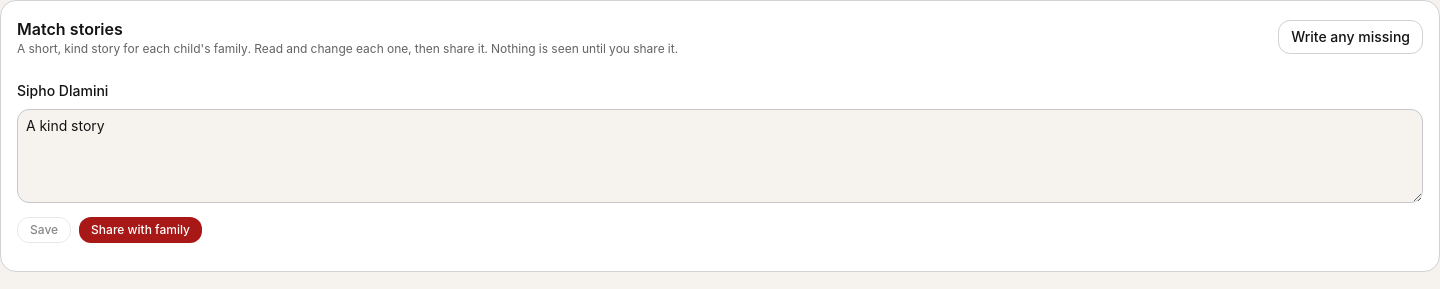
Test: MatchStoriesPanel › saves edits before sharing, then marks it shared
The width and height of the screenshot is (1440, 289).
Step 1. Replace the text in the text box named "Story for Sipho Dlamini" with "Edited story" → (720, 156), box [17, 109, 1423, 203]
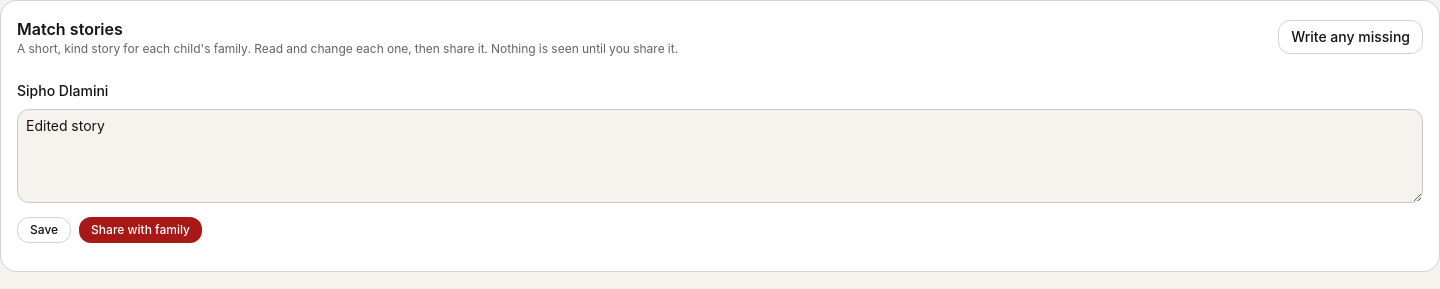
Step 2. Click the button "Share with family" → (140, 230), box [79, 217, 202, 243]
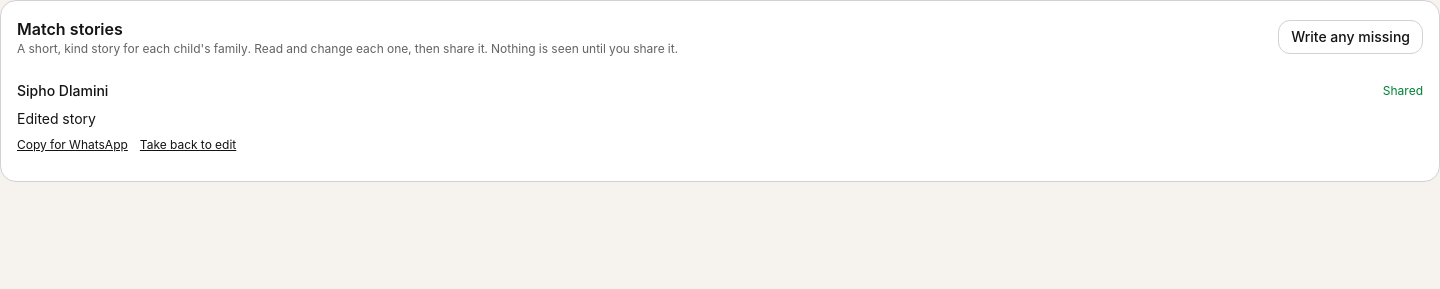
Check: the text "Edited story" is shown, box [17, 110, 96, 127]
